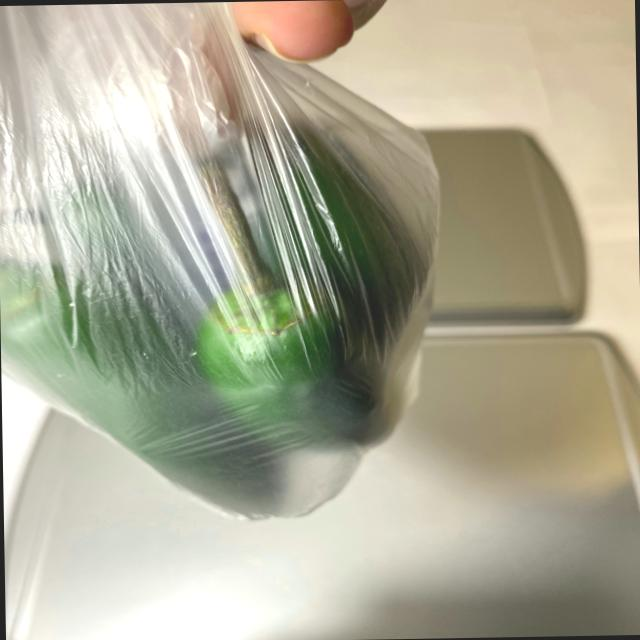chilli: (0, 86, 439, 543)
